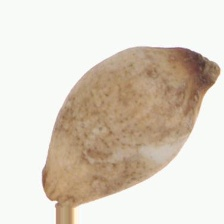L1: (181, 45, 221, 87), (42, 179, 81, 206)
L2: (42, 45, 219, 206)
